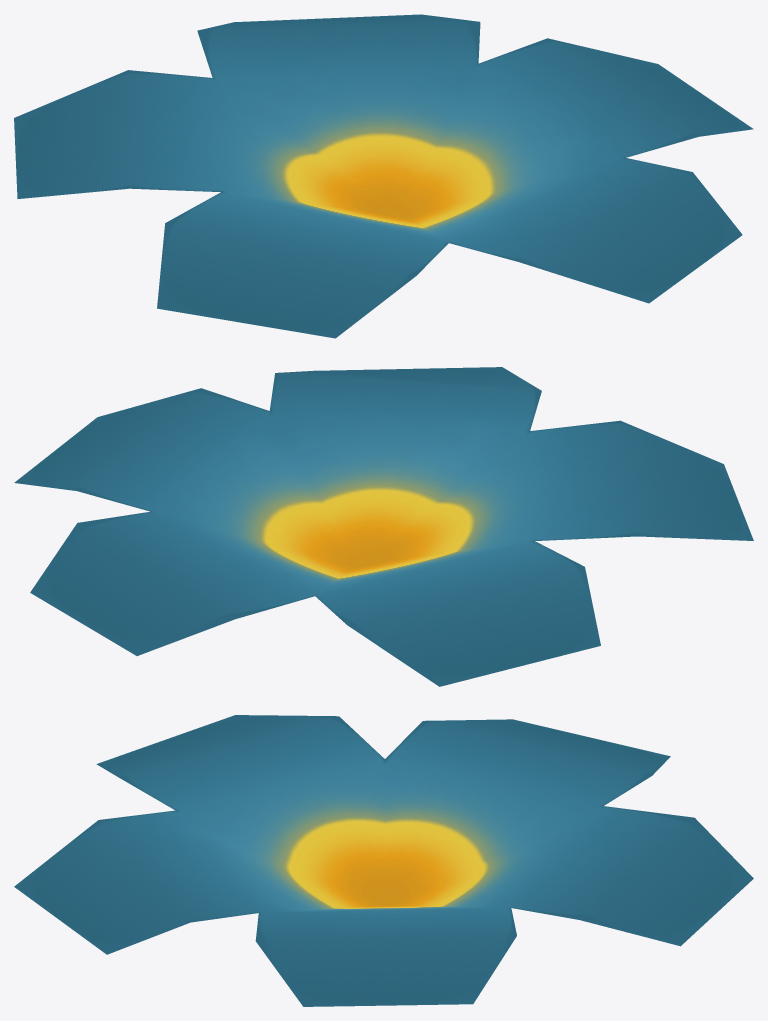
The model's file is SM_Blue_Flower.fbx.
The picture shows the model from 3 angles, top to bottom: view 1: azimuth 30°, elevation 25°; view 2: azimuth 150°, elevation 25°; view 3: azimuth 270°, elevation 25°; orthographic projection. The views are drawn at different scales.
Visible parts, largest first — view 1: SM_Blue_Flower_LOD0; view 2: SM_Blue_Flower_LOD0; view 3: SM_Blue_Flower_LOD0.
Boxes of the visible parts, x1,y1,x2,y2 form: SM_Blue_Flower_LOD0: (14, 14, 753, 338); SM_Blue_Flower_LOD0: (14, 367, 753, 686); SM_Blue_Flower_LOD0: (14, 715, 753, 1006).
Bounding box in the file's own units: 28.64 × 30.84 × 3.21.
1 material, 1 textured.
